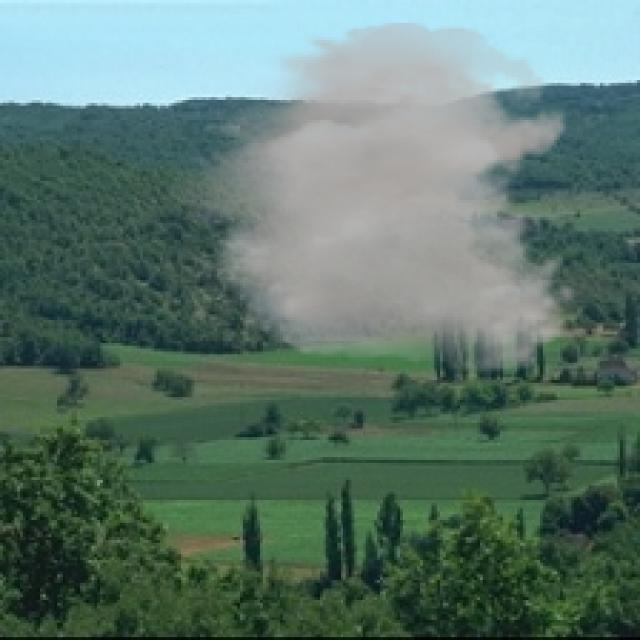smoke: (160, 23, 580, 374)
